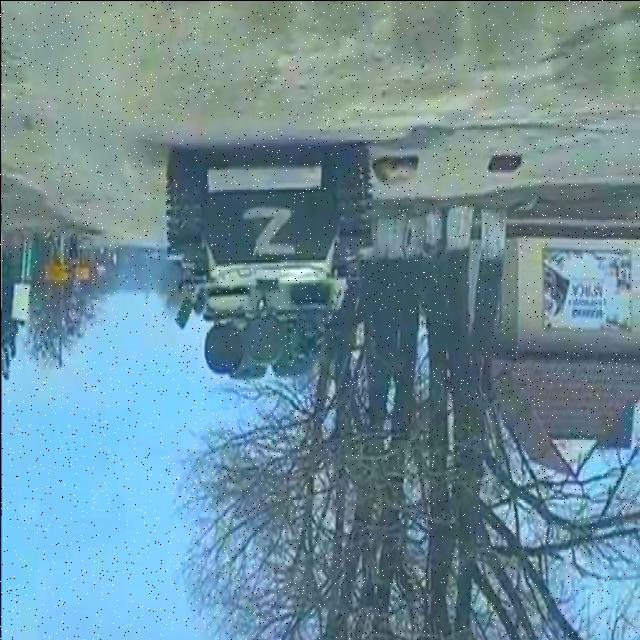APC-IFV: (159, 118, 385, 394)
